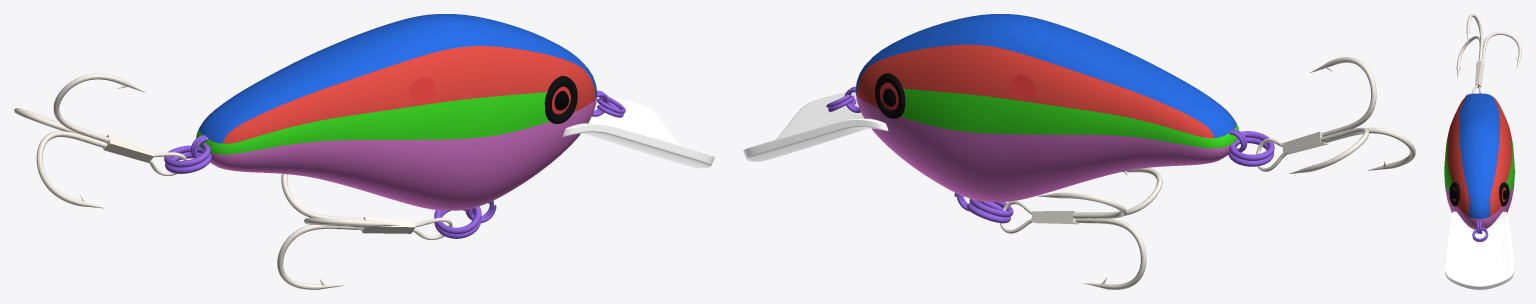
3 renders of one model, left to right at view 1: azimuth 30°, elevation 25°; view 2: azimuth 150°, elevation 25°; view 3: azimuth 270°, elevation 25°, orthographic. The views are drawn at different scales.
Parts seen in each view (by area): view 1: Cube.002; view 2: Cube.002; view 3: Cube.002.
Boxes of the visible parts, x1=… form: Cube.002: x1=14, y1=14, x2=714, y2=289; Cube.002: x1=743, y1=14, x2=1415, y2=289; Cube.002: x1=1444, y1=14, x2=1521, y2=289.
Size of the model in its own units: 2 by 0.8343 by 0.3944.
